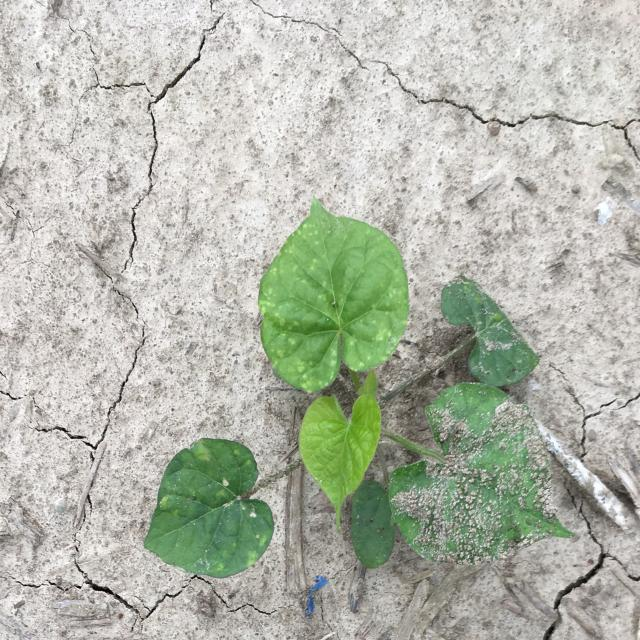MorningGlory: (142, 195, 576, 580)
